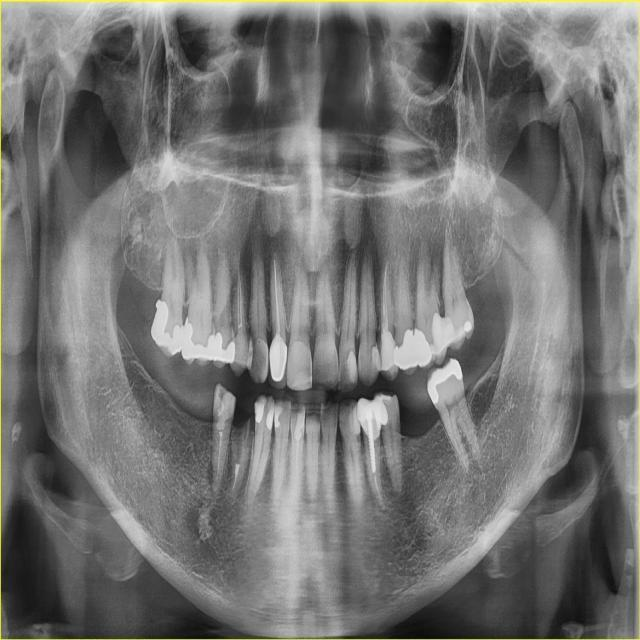Crown: (269, 334, 287, 389), (356, 396, 380, 437)
Filling: (151, 299, 183, 356), (426, 357, 463, 405), (430, 312, 465, 360), (181, 315, 215, 360), (394, 328, 418, 370), (231, 332, 251, 376), (216, 388, 236, 431), (381, 330, 398, 380), (250, 336, 268, 383), (212, 332, 234, 360), (415, 329, 431, 367), (294, 404, 305, 442), (254, 395, 268, 422), (377, 394, 390, 423), (347, 350, 357, 384), (350, 404, 360, 436), (274, 399, 284, 427), (265, 401, 274, 430), (371, 346, 380, 372), (464, 320, 472, 333)
Missing teeth: (150, 359, 216, 425), (400, 384, 439, 438)
Periapical lesion: (244, 222, 279, 265), (356, 239, 380, 295), (391, 485, 418, 528), (408, 235, 434, 270), (312, 256, 335, 295), (210, 463, 231, 503), (179, 247, 197, 277)
Root Canal Treatment: (381, 264, 387, 327), (274, 258, 279, 330), (237, 271, 242, 323), (374, 474, 382, 503), (219, 431, 222, 486)
Root Piece: (228, 419, 253, 506), (131, 215, 145, 247)
